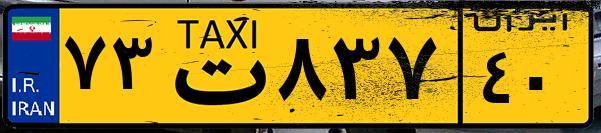0: (525, 38, 570, 115)
3: (330, 28, 385, 110), (110, 28, 158, 98)
4: (475, 38, 525, 113)
7: (385, 28, 445, 110), (57, 26, 110, 100)
8: (270, 28, 330, 110)
ت: (158, 12, 270, 120)
